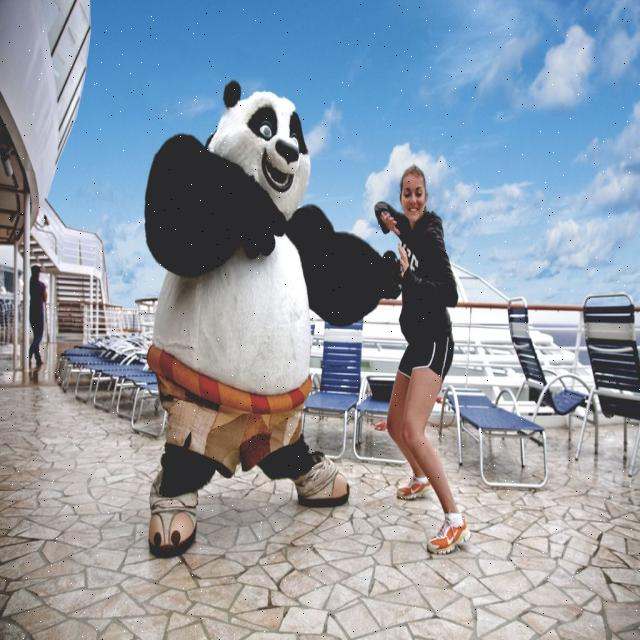panda: (147, 79, 403, 560)
